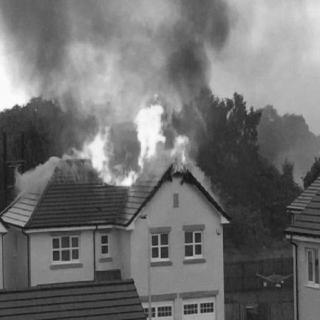Fire: (64, 104, 192, 184)
